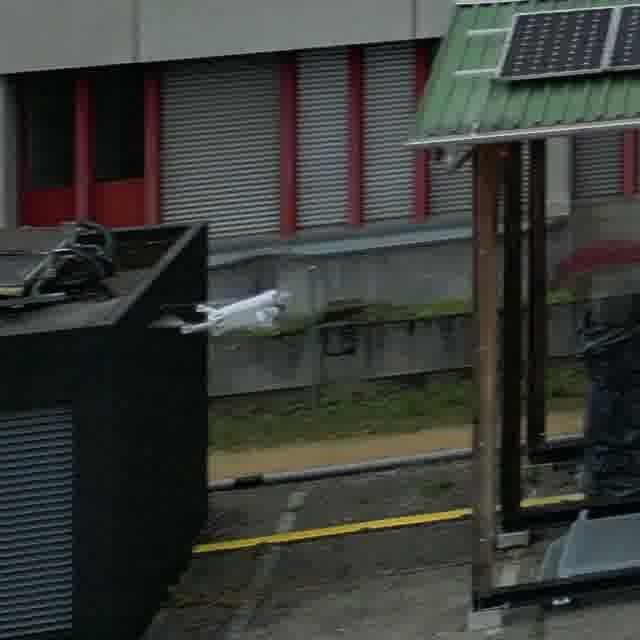Drohne: (161, 289, 289, 335)
